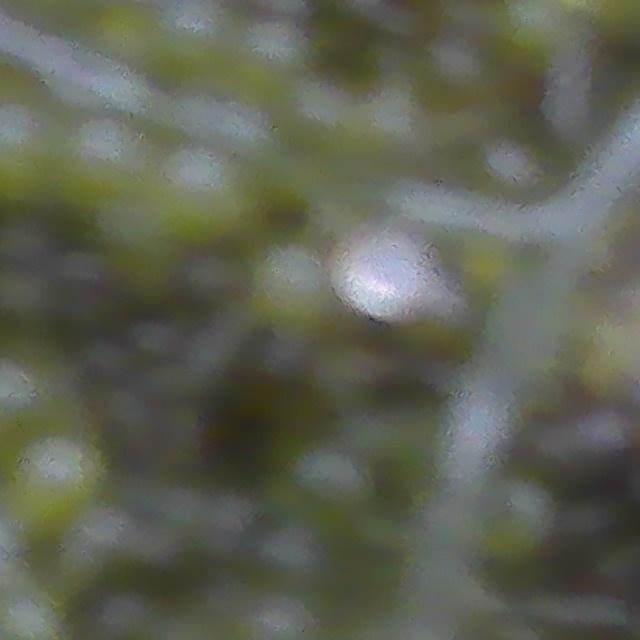SeaGrape: (329, 228, 427, 321), (18, 431, 107, 518), (59, 115, 145, 204), (0, 95, 65, 206), (248, 245, 327, 328)
